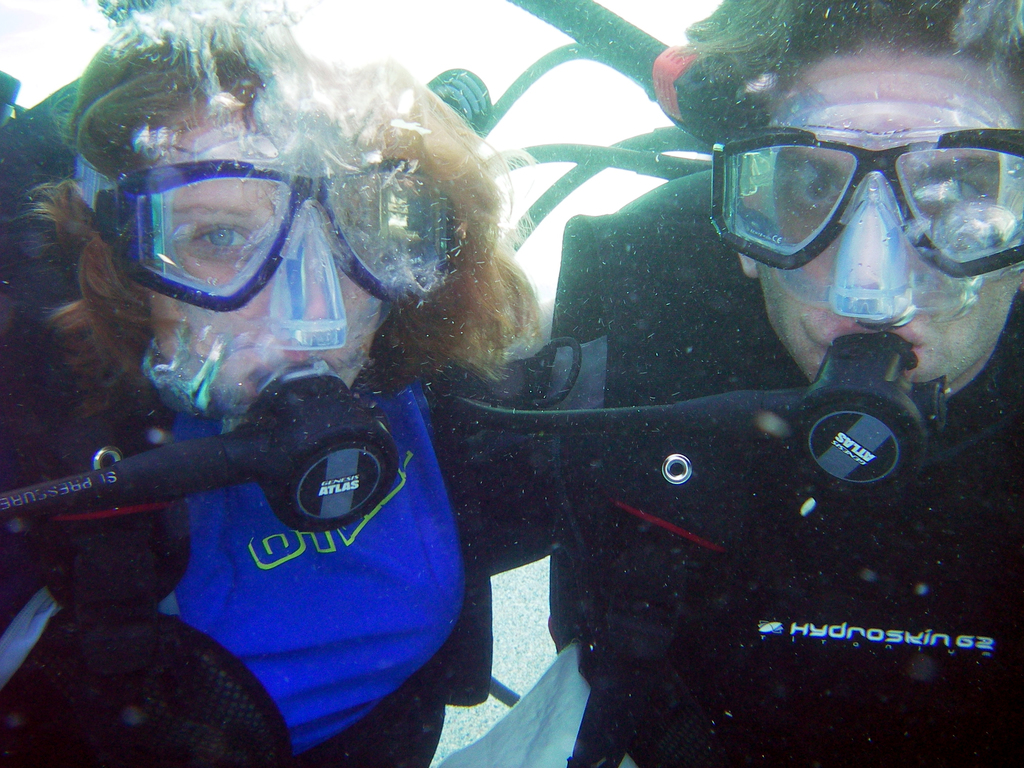Person: (0, 0, 573, 768), (548, 0, 1024, 768)
